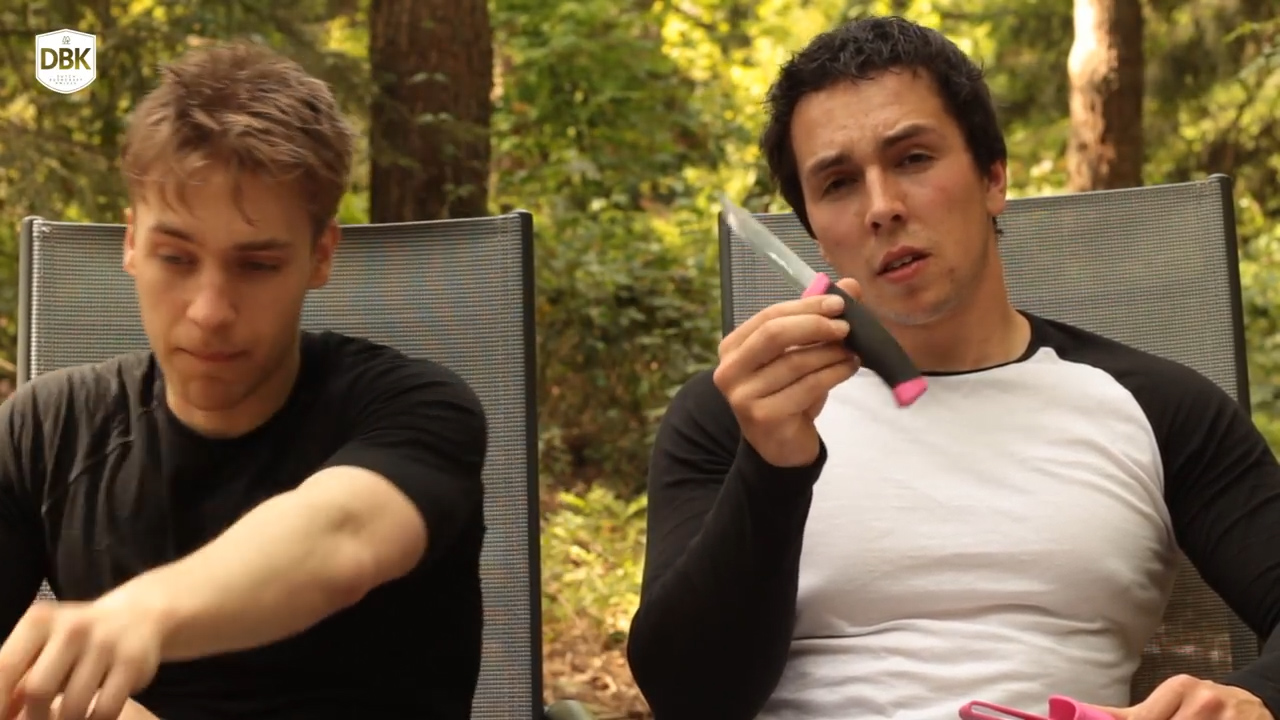knife: (687, 164, 939, 417)
